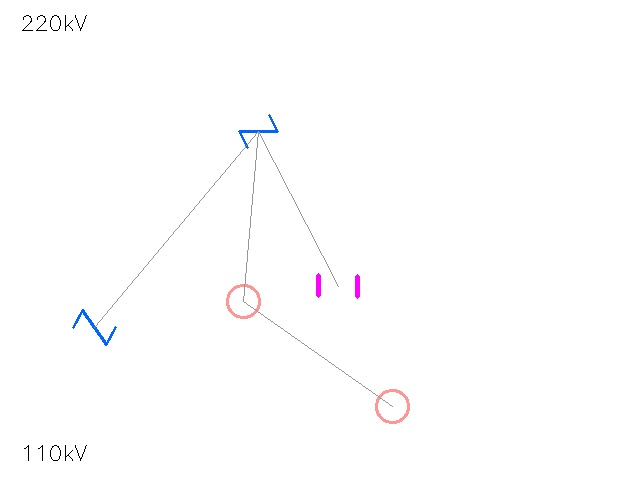capacitor: (305, 253, 371, 319)
circuit_breaker: (73, 306, 115, 348), (239, 112, 277, 150)
voltage_transformer: (210, 268, 276, 334), (359, 373, 425, 439)
